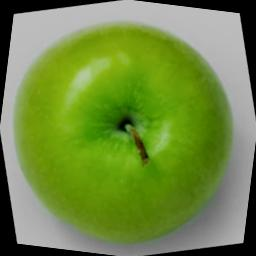Apple Unripe: (0, 4, 253, 256)
